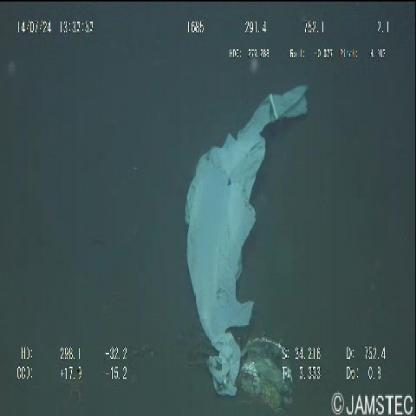Rác: (185, 85, 309, 400)
